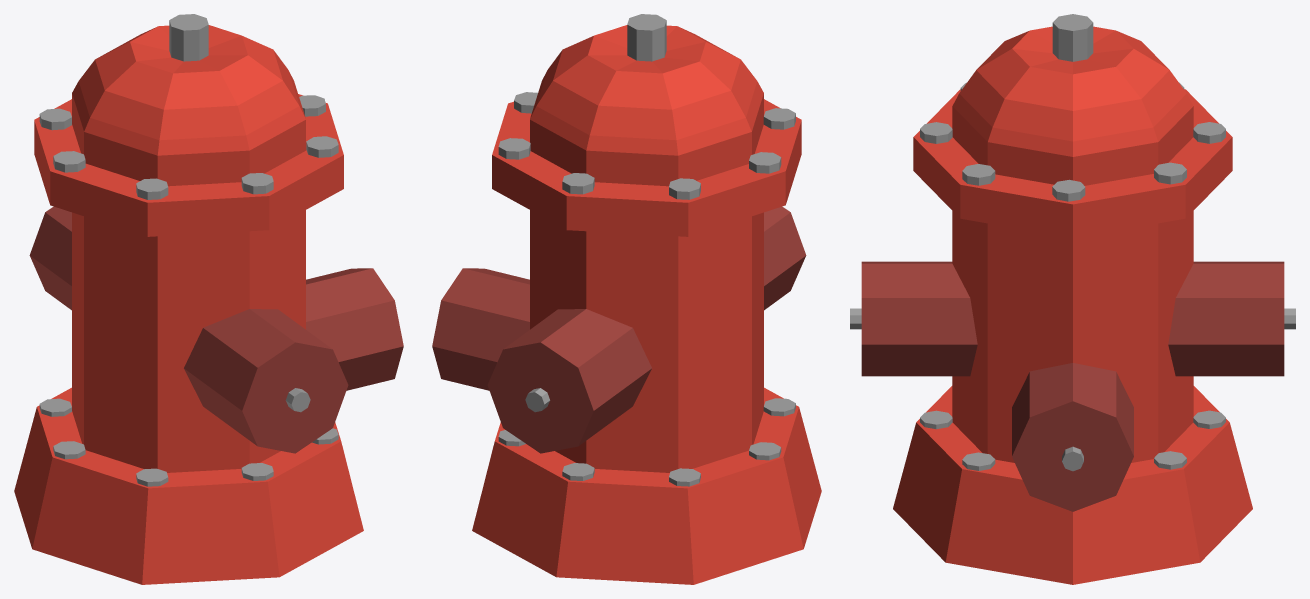
File: Fire hydrant.fbx
3 renders of one model, left to right at view 1: azimuth 30°, elevation 25°; view 2: azimuth 150°, elevation 25°; view 3: azimuth 270°, elevation 25°, orthographic.
Parts seen in each view (by area): view 1: Cylinder.002; view 2: Cylinder.002; view 3: Cylinder.002.
Boxes of the visible parts, x1,y1,x2,y2 form: Cylinder.002: [14, 14, 403, 584]; Cylinder.002: [432, 14, 821, 584]; Cylinder.002: [850, 14, 1295, 584].
Size of the model in its own units: 46.24 by 55.66 by 41.81.
